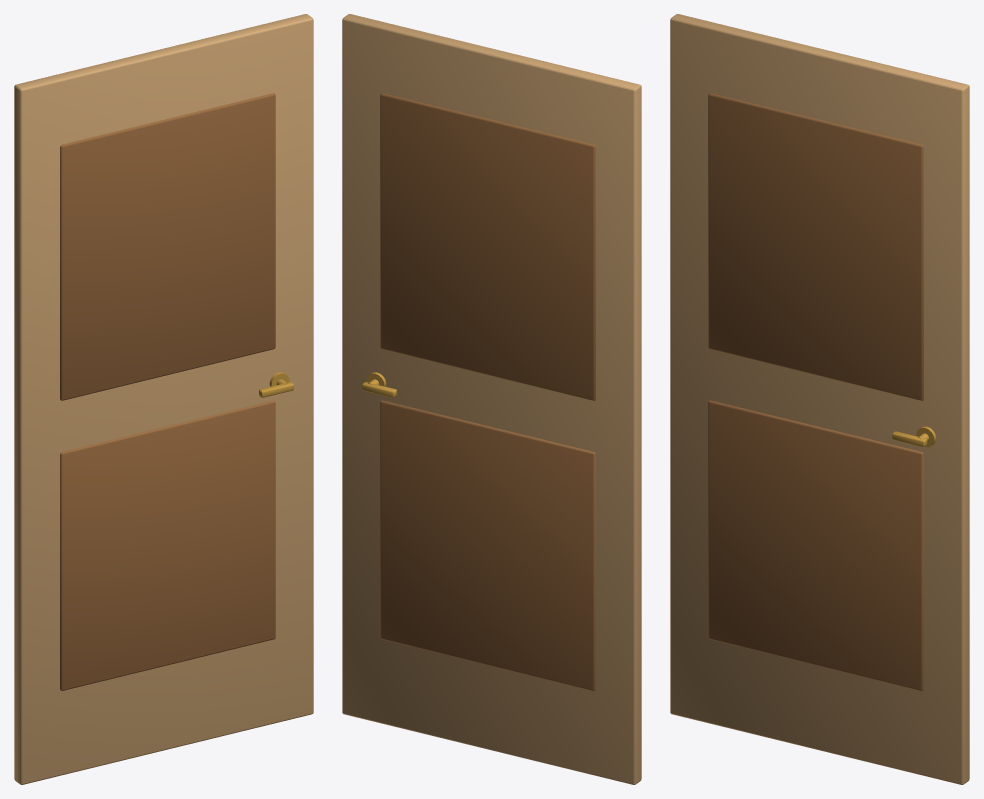
Rendered from Door_Interior.glb.
3 views of the same model, side by side, from view 1: azimuth 30°, elevation 25°; view 2: azimuth 150°, elevation 25°; view 3: azimuth 330°, elevation 25° (orthographic).
Parts seen in each view (by area): view 1: Door_Interior; view 2: Door_Interior; view 3: Door_Interior.
Boxes of the visible parts, <box> form: Door_Interior: <box>14,14,313,784</box>; Door_Interior: <box>342,14,641,784</box>; Door_Interior: <box>670,14,969,784</box>.
Bounding box in the file's own units: 0.9 × 2.04 × 0.14.
